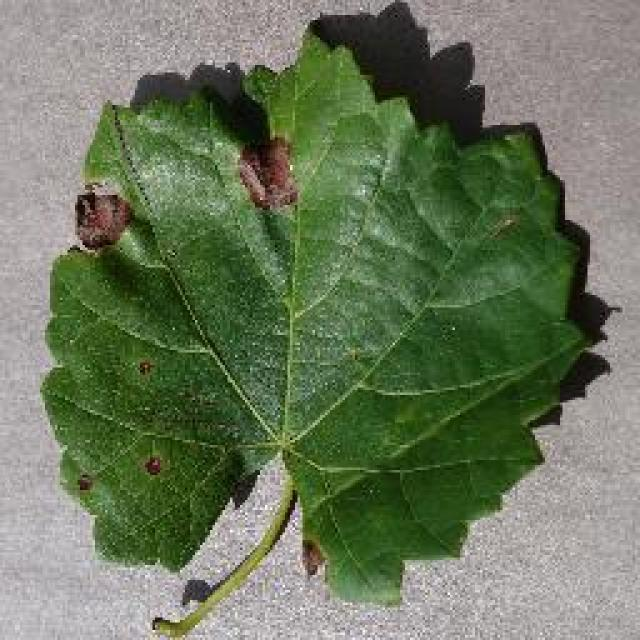Grape___Black_rot: (33, 22, 595, 638)
